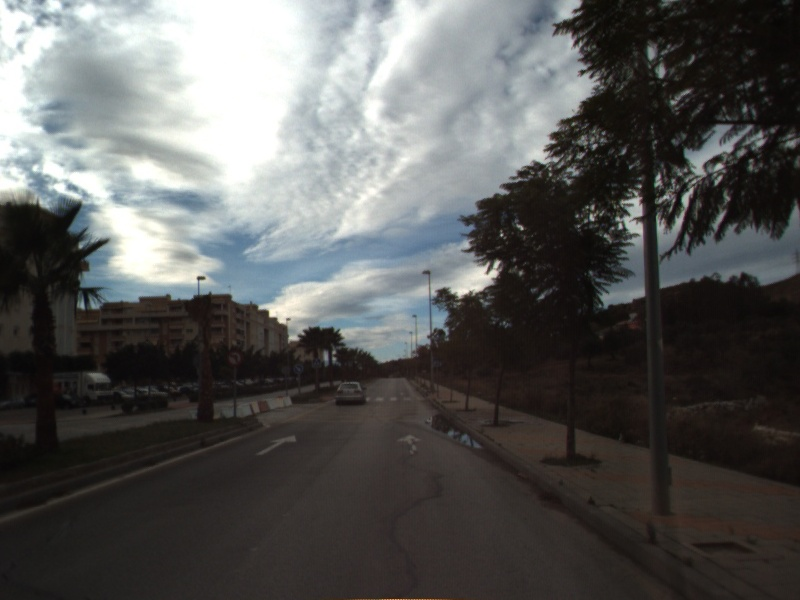STRAIGHT: (253, 433, 298, 457), (395, 432, 425, 458)
